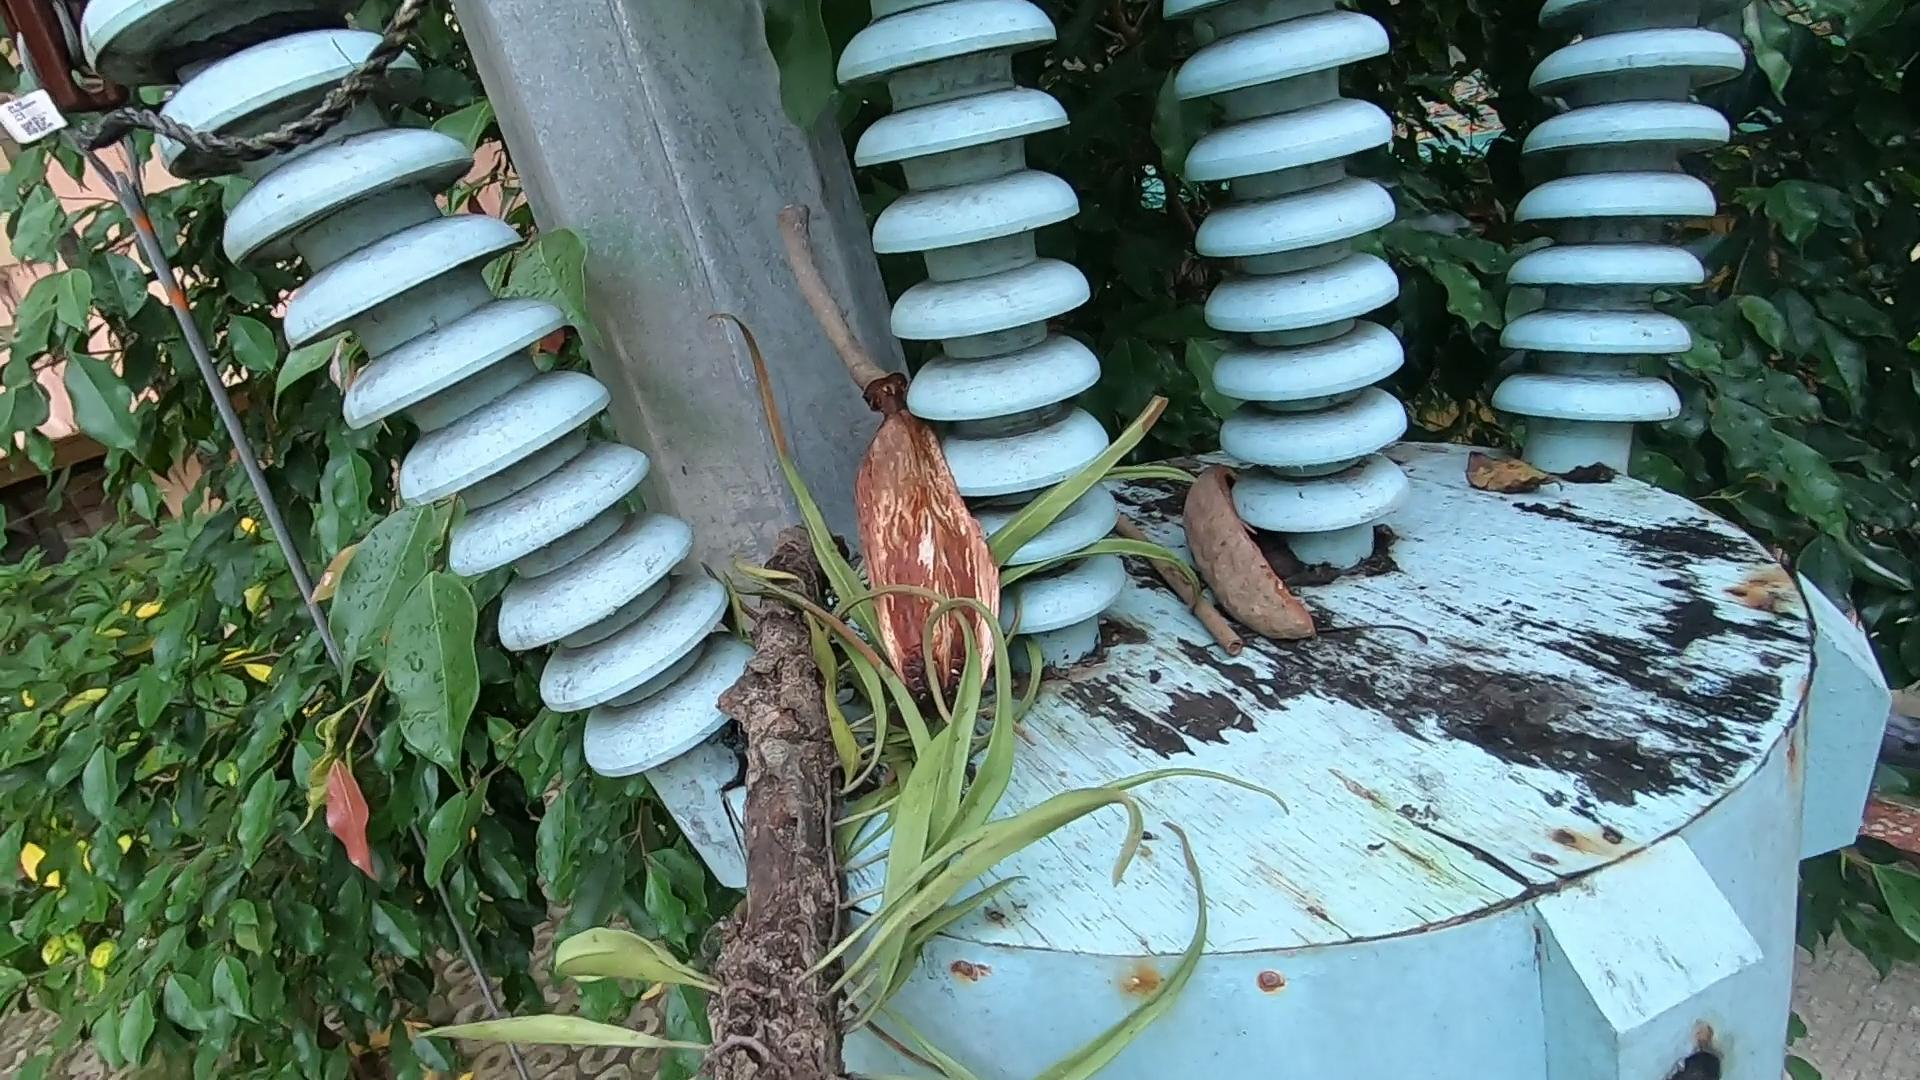branch with leaves: (674, 477, 1196, 1080)
leaf: (1449, 425, 1575, 526)
mahogany fruit: (804, 404, 1014, 661), (1137, 434, 1273, 698)
tree branch: (752, 198, 920, 417), (1089, 492, 1233, 653)
